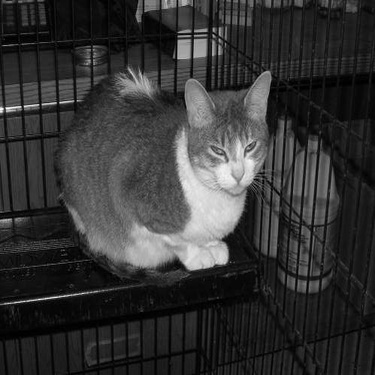cat: (54, 56, 289, 283)
